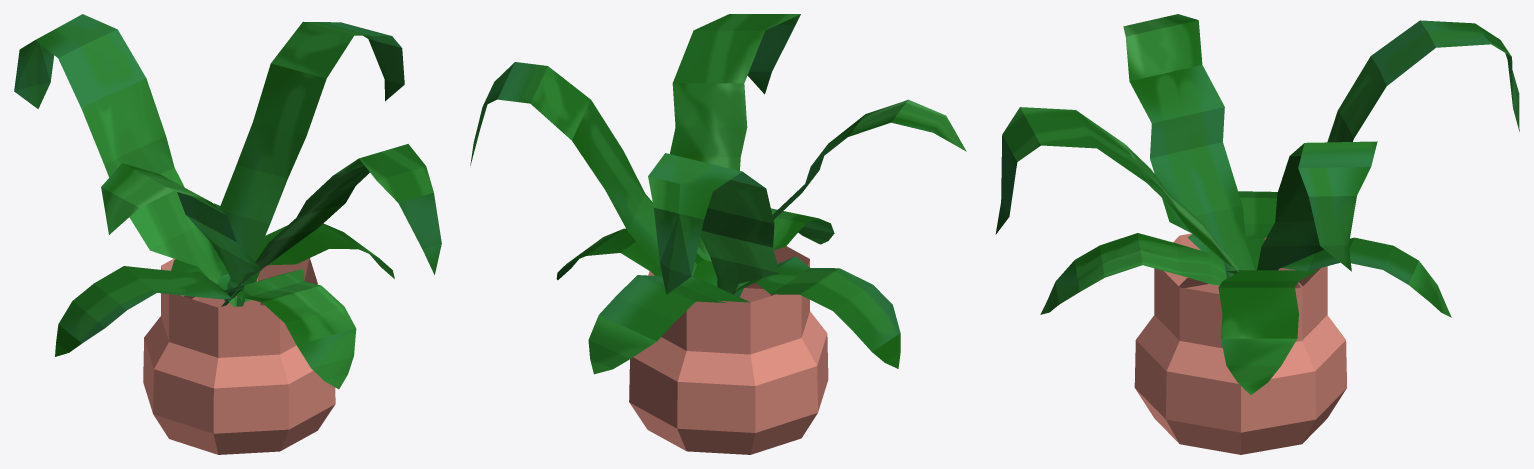
Rendered from Plant.dae.
3 renders of one model, left to right at view 1: azimuth 30°, elevation 25°; view 2: azimuth 150°, elevation 25°; view 3: azimuth 270°, elevation 25°, orthographic. The views are drawn at different scales.
Parts seen in each view (by area): view 1: plante; view 2: plante; view 3: plante.
Part boxes in pixels (bbox=[...]): plante: bbox=[14, 14, 441, 454]; plante: bbox=[470, 14, 966, 454]; plante: bbox=[995, 14, 1519, 454].
Bounding box in the file's own units: 2.37 × 2.64 × 1.97.
